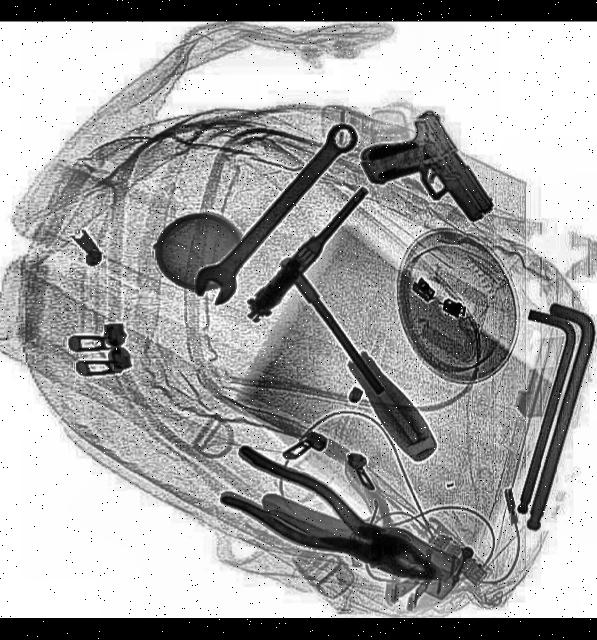Gun: (350, 105, 495, 262)
Pliers: (209, 443, 448, 610)
Wrench: (184, 114, 365, 315)
